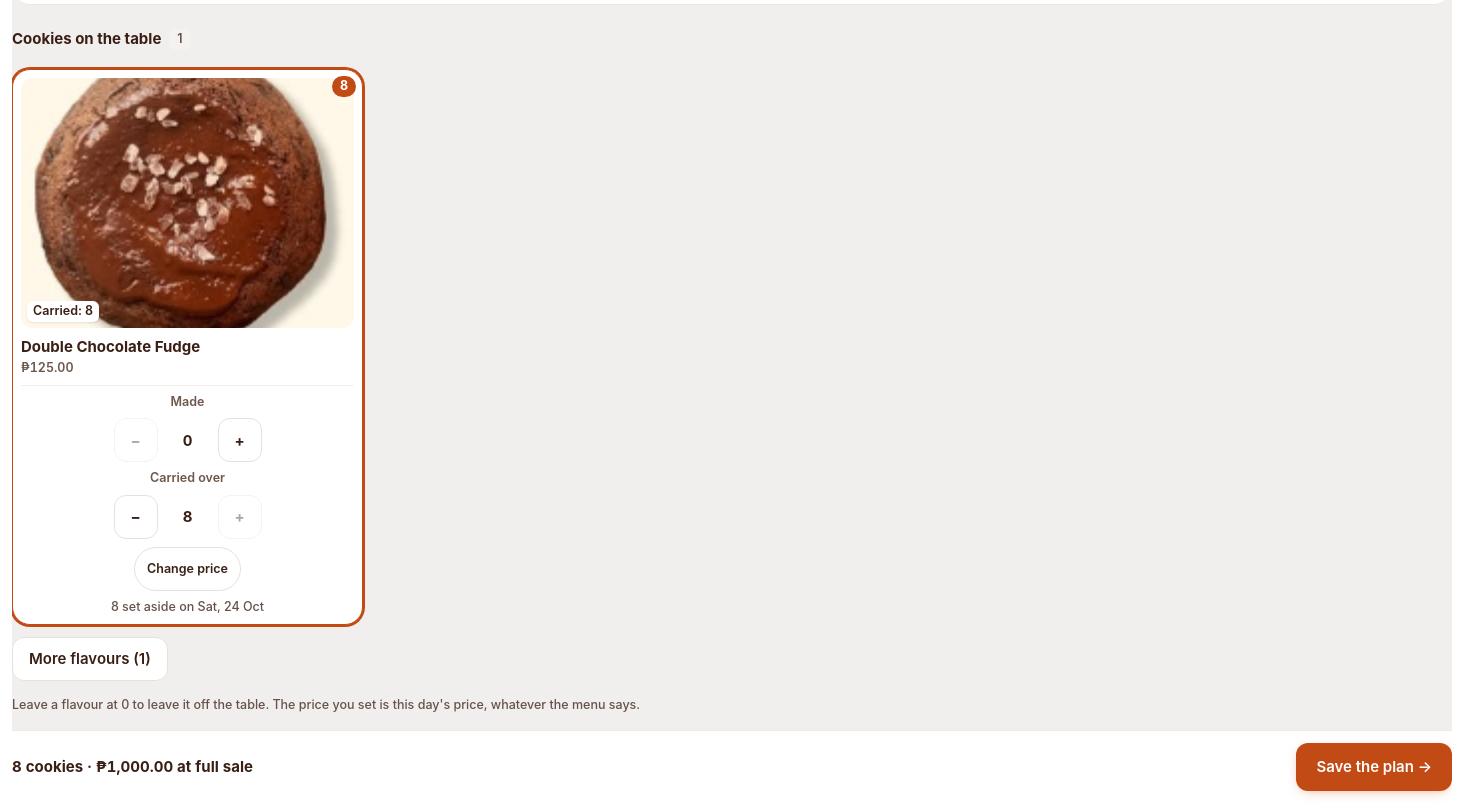
the day plan › draws the menu flavours as tiles with steppers, the others under More flavours (B5)
(page scrolled)
Check: the text "Double Chocolate Fudge" is shown, box [21, 336, 200, 358]
Check: the text "Oat" is not shown
Click the button "More flavours (1)" at (90, 659), box [12, 637, 168, 681]
(page scrolled)
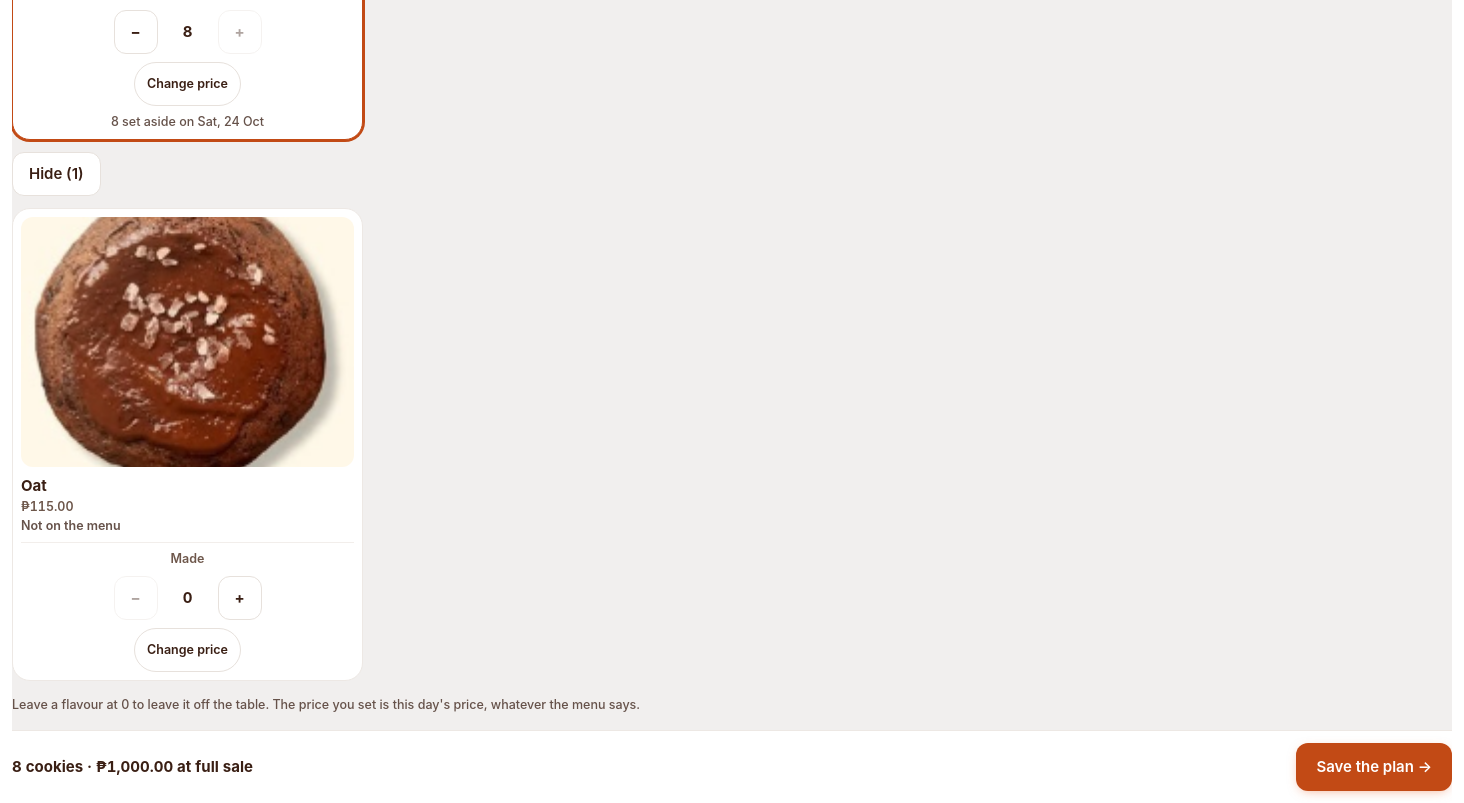
Check: the text "Oat" is shown, box [21, 475, 47, 497]
